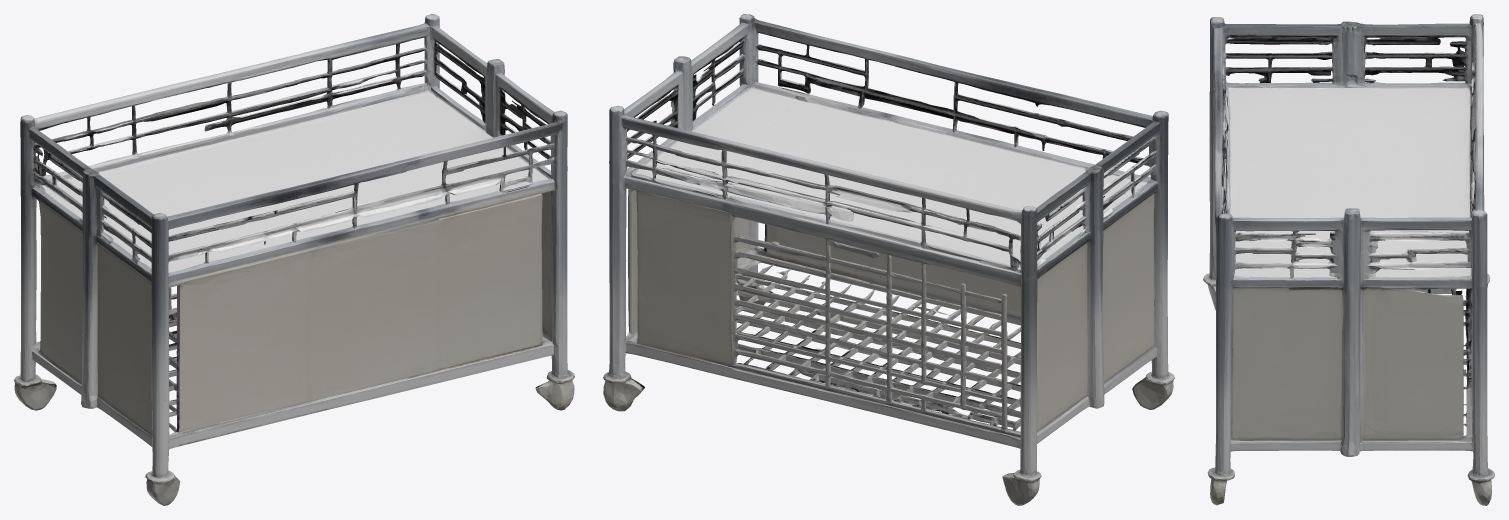
File: small wagon.glb
3 renders of one model, left to right at view 1: azimuth 30°, elevation 25°; view 2: azimuth 150°, elevation 25°; view 3: azimuth 270°, elevation 25°, orthographic.
Parts seen in each view (by area): view 1: world; view 2: world; view 3: world.
Part boxes in pixels (box(x1,y1,x2,y2)): world: box(14, 14, 574, 505); world: box(603, 14, 1174, 505); world: box(1203, 14, 1494, 505).
Bounding box in the file's own units: 0.9995 × 0.6684 × 0.5961.
1 material, 1 textured.
